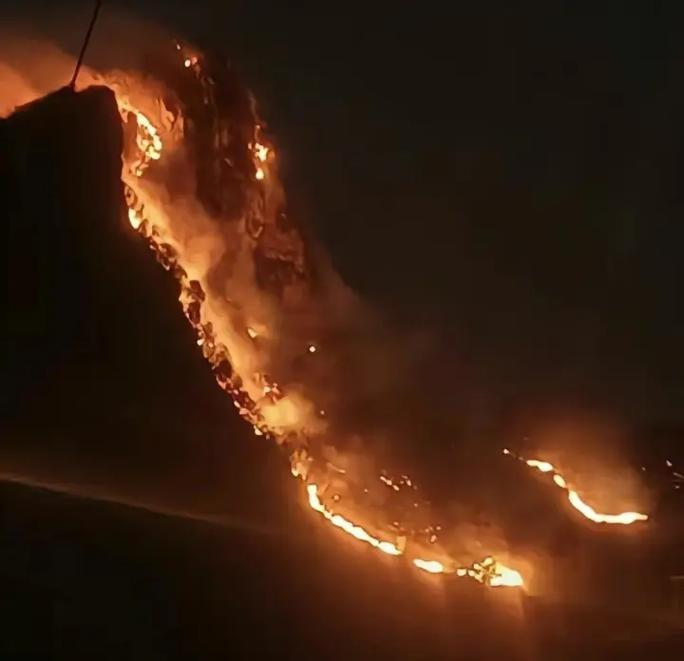fire: (4, 1, 663, 604)
